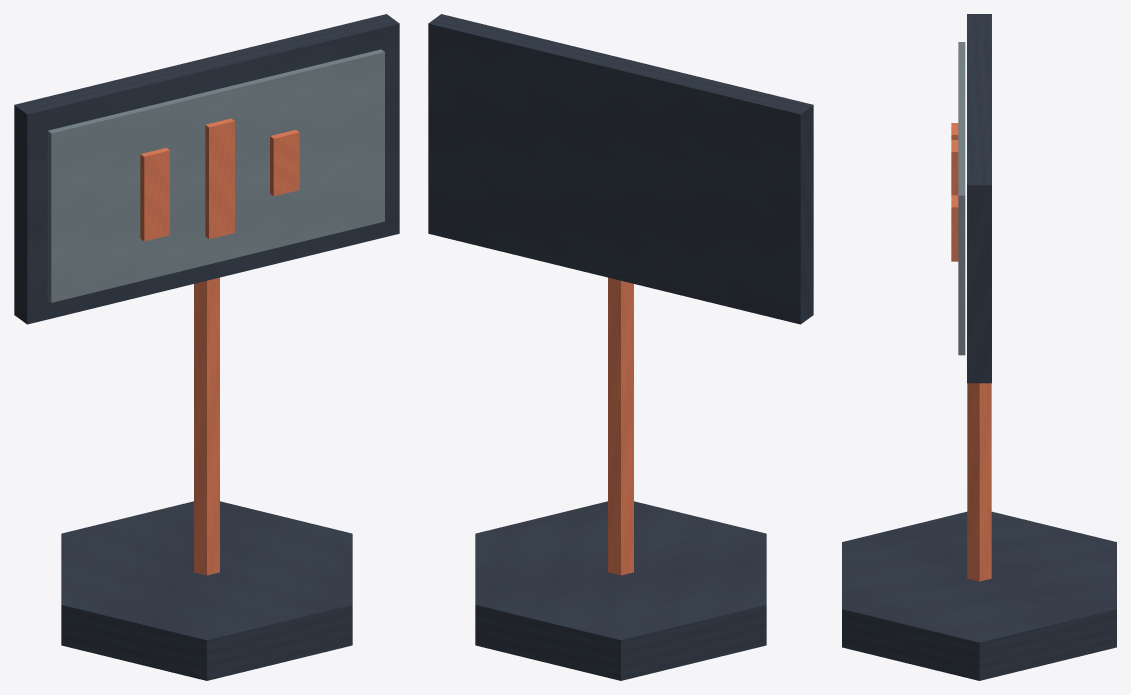
The model's file is atlas100-s022-a11.glb.
The picture shows the model from 3 angles, left to right: view 1: azimuth 30°, elevation 25°; view 2: azimuth 150°, elevation 25°; view 3: azimuth 270°, elevation 25°; orthographic projection. The views are drawn at different scales.
Parts seen in each view (by area): view 1: atlas100-s022-a11:part-003, atlas100-s022-a11:part-000, atlas100-s022-a11:part-002, atlas100-s022-a11:part-001, atlas100-s022-a11:part-005, atlas100-s022-a11:part-004, atlas100-s022-a11:part-006; view 2: atlas100-s022-a11:part-002, atlas100-s022-a11:part-000, atlas100-s022-a11:part-001; view 3: atlas100-s022-a11:part-000, atlas100-s022-a11:part-002, atlas100-s022-a11:part-001, atlas100-s022-a11:part-003, atlas100-s022-a11:part-006, atlas100-s022-a11:part-005.
Part boxes in pixels (left/top/right/bottom): atlas100-s022-a11:part-003: left=47, top=49, right=384, bottom=302; atlas100-s022-a11:part-000: left=61, top=501, right=352, bottom=680; atlas100-s022-a11:part-002: left=14, top=14, right=399, bottom=324; atlas100-s022-a11:part-001: left=194, top=277, right=219, bottom=575; atlas100-s022-a11:part-005: left=205, top=118, right=234, bottom=239; atlas100-s022-a11:part-004: left=140, top=148, right=169, bottom=241; atlas100-s022-a11:part-006: left=270, top=130, right=299, bottom=196; atlas100-s022-a11:part-002: left=428, top=14, right=813, bottom=324; atlas100-s022-a11:part-000: left=475, top=501, right=766, bottom=680; atlas100-s022-a11:part-001: left=608, top=277, right=633, bottom=575; atlas100-s022-a11:part-000: left=842, top=511, right=1116, bottom=680; atlas100-s022-a11:part-002: left=967, top=14, right=991, bottom=383; atlas100-s022-a11:part-001: left=967, top=383, right=991, bottom=581; atlas100-s022-a11:part-003: left=958, top=42, right=965, bottom=355; atlas100-s022-a11:part-006: left=951, top=195, right=958, bottom=261; atlas100-s022-a11:part-005: left=951, top=140, right=958, bottom=195.
Size of the model in its own units: 1.15 by 1.61 by 0.7794.
3 materials, 3 textured.
